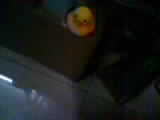duck: (63, 11, 92, 40)
